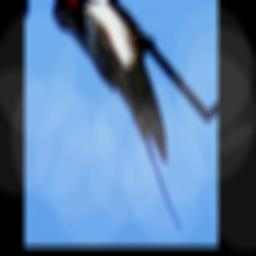Swallow: (37, 0, 200, 232)
